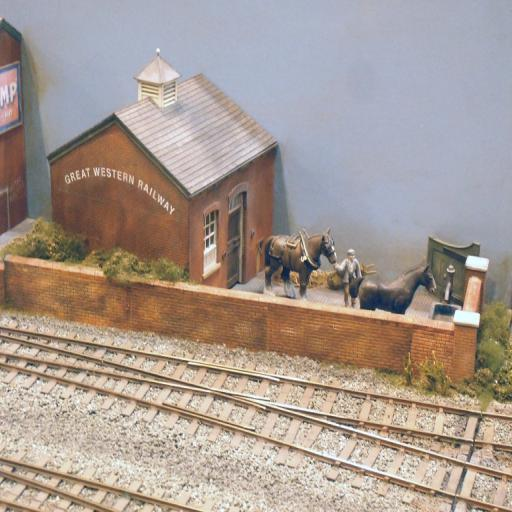horse: (262, 229, 338, 296), (348, 258, 438, 311)
